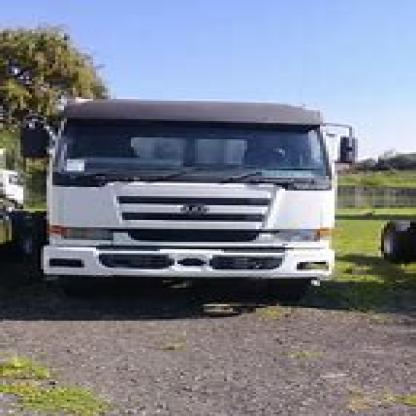dump_truck: (32, 90, 364, 308)
